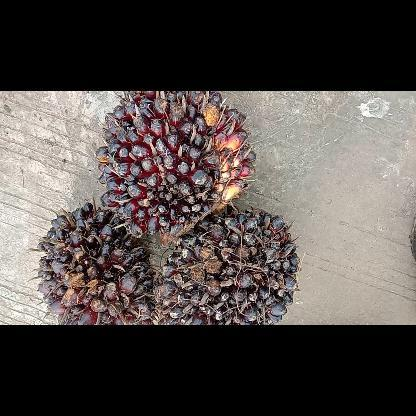TBS mentah: (93, 91, 260, 249), (149, 206, 303, 324), (34, 200, 154, 324)
